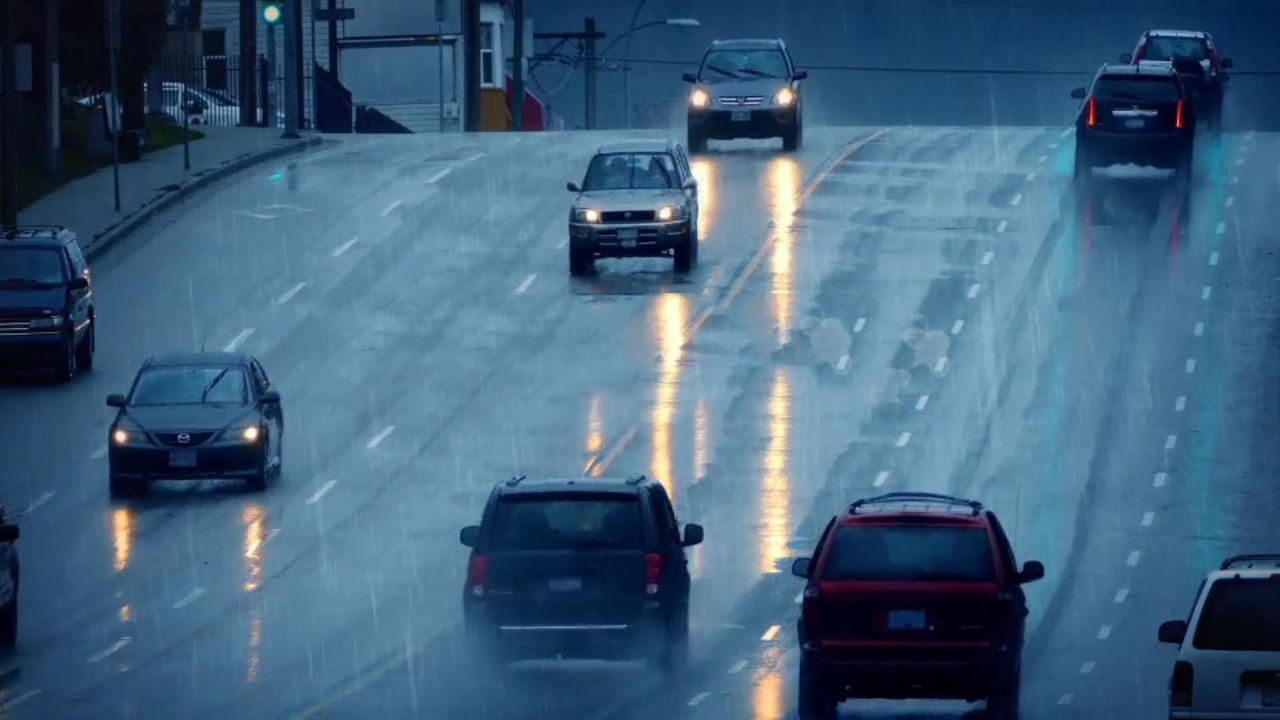car: (784, 497, 1034, 717), (456, 474, 696, 683), (102, 352, 284, 497), (565, 142, 701, 273), (0, 226, 99, 386), (1072, 61, 1195, 181), (684, 38, 809, 154), (1156, 551, 1252, 676), (1122, 30, 1223, 124)
